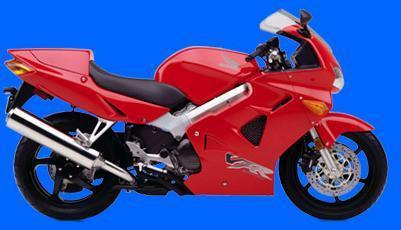motorcycle: (2, 4, 391, 223)
